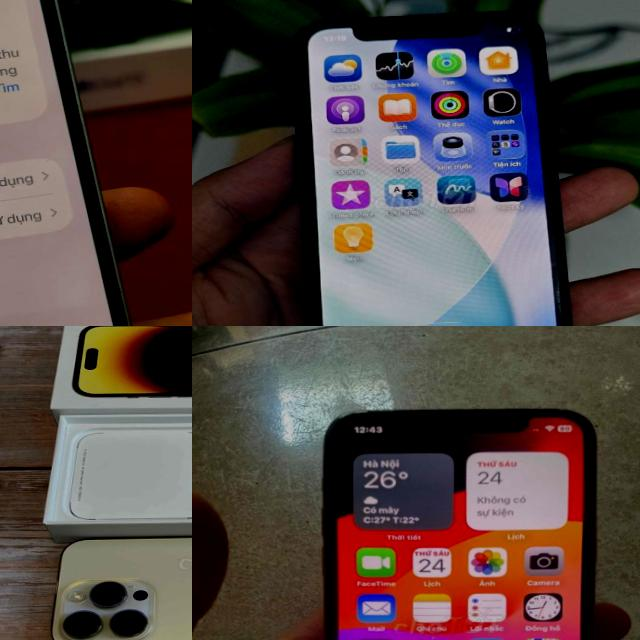gen_11: (279, 3, 579, 326), (306, 394, 612, 640)
gen_12_13: (0, 0, 166, 326)
gen_14: (37, 521, 192, 640)
